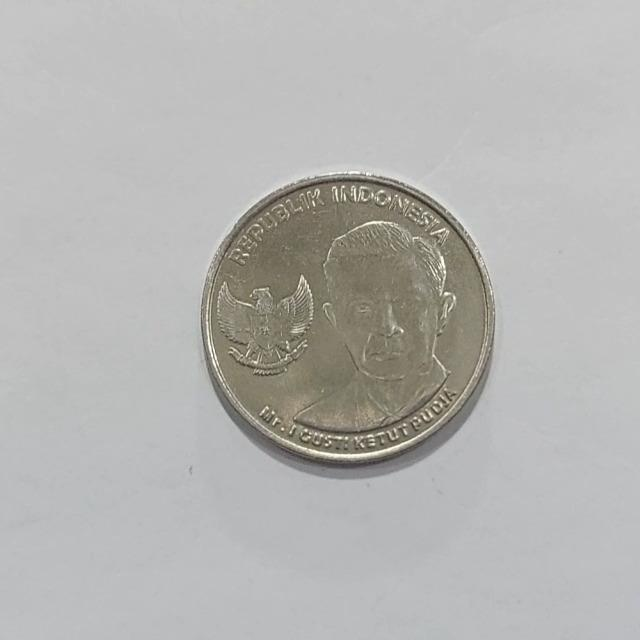Rp100: (199, 170, 496, 466), (288, 217, 459, 436)
